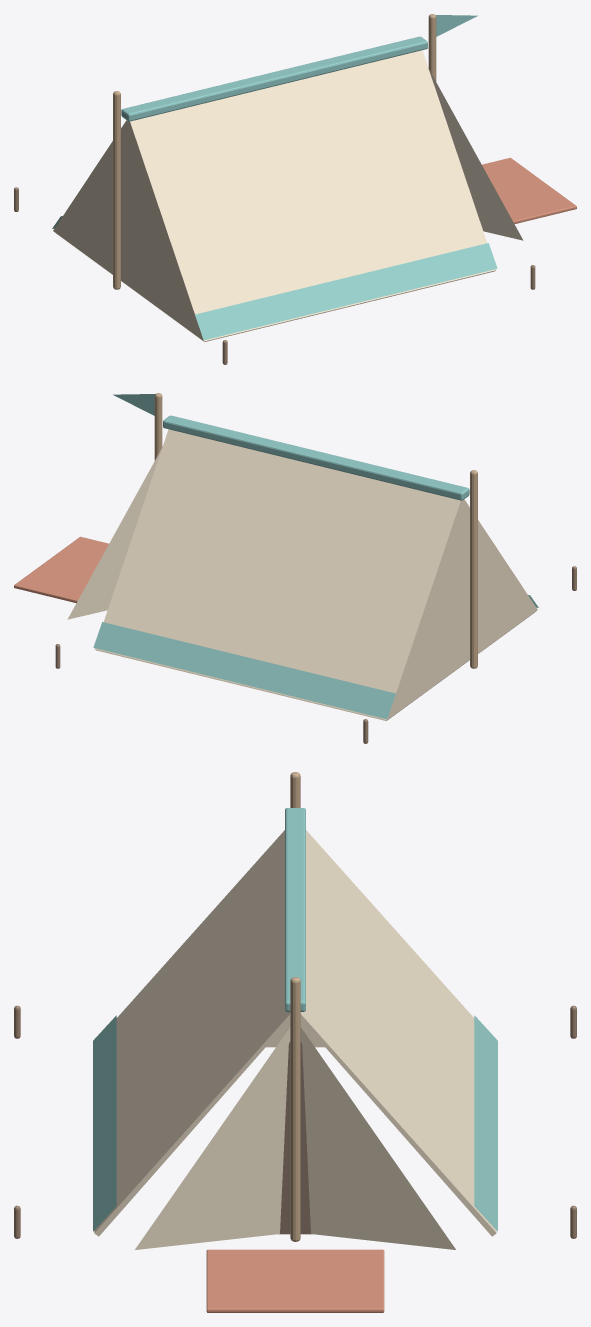
File: camp_tent_v2_b.glb
The picture shows the model from 3 angles, top to bottom: view 1: azimuth 30°, elevation 25°; view 2: azimuth 150°, elevation 25°; view 3: azimuth 270°, elevation 25°; orthographic projection. The views are drawn at different scales.
Parts seen in each view (by area): view 1: camp_tent_v2_b; view 2: camp_tent_v2_b; view 3: camp_tent_v2_b.
Part boxes in pixels (bbox=[...]): camp_tent_v2_b: bbox=[14, 14, 576, 364]; camp_tent_v2_b: bbox=[14, 393, 576, 743]; camp_tent_v2_b: bbox=[14, 772, 576, 1312].
Size of the model in its own units: 5.59 by 2.48 by 4.76.
